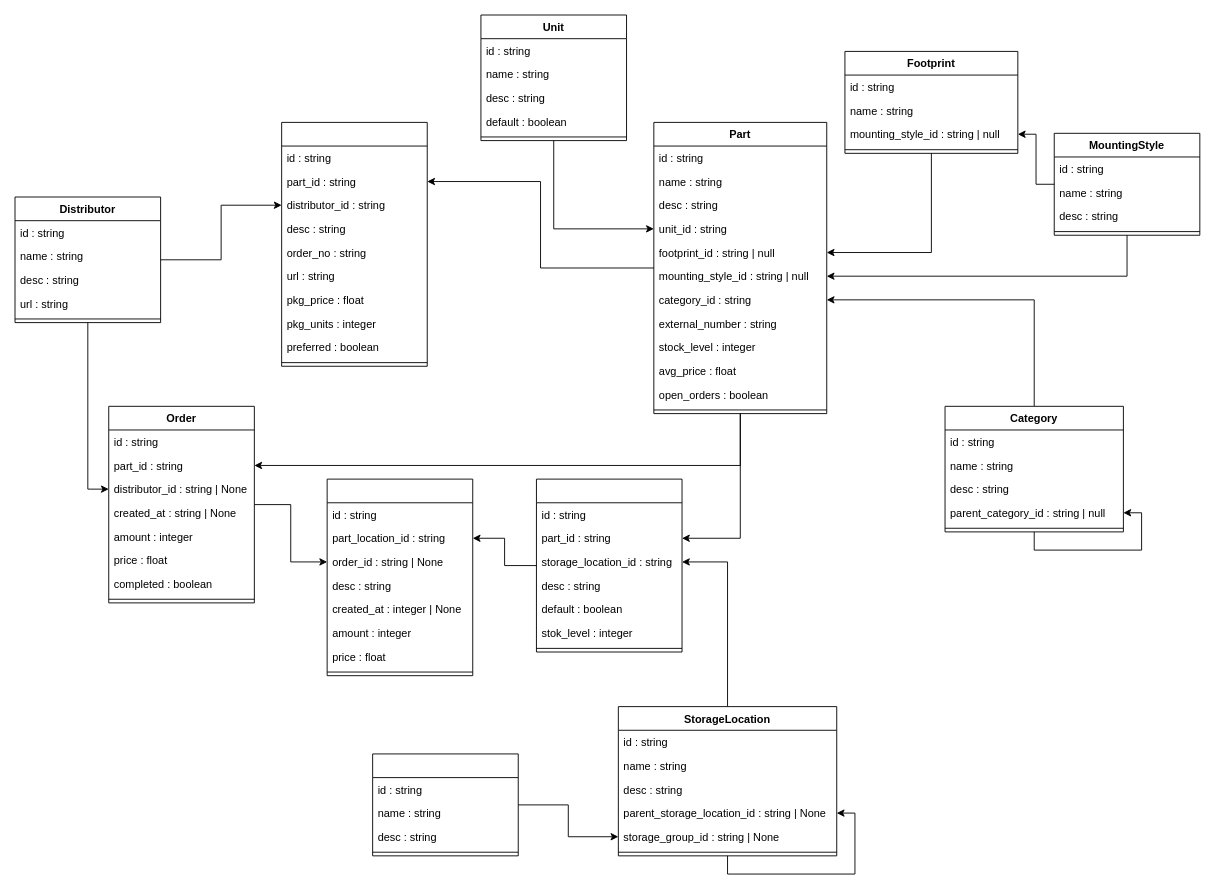
Some shapes in this 1215 by 889 pixel diagram are drawn without their labels. Each missing label, with the box of its shape:
PartDistributor: (281, 121, 427, 366)
PartLocation: (536, 478, 682, 652)
StockChange: (326, 478, 473, 676)
StorageGroup: (372, 753, 518, 856)
